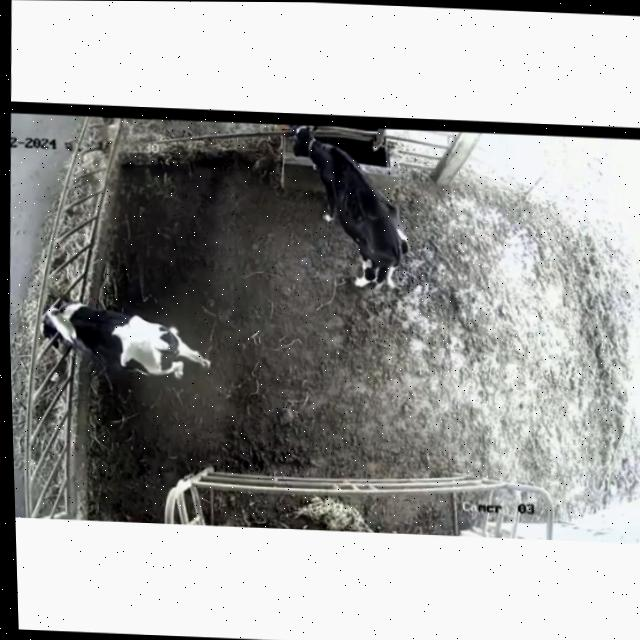drink: (278, 120, 357, 184)
eat: (16, 293, 85, 343)
